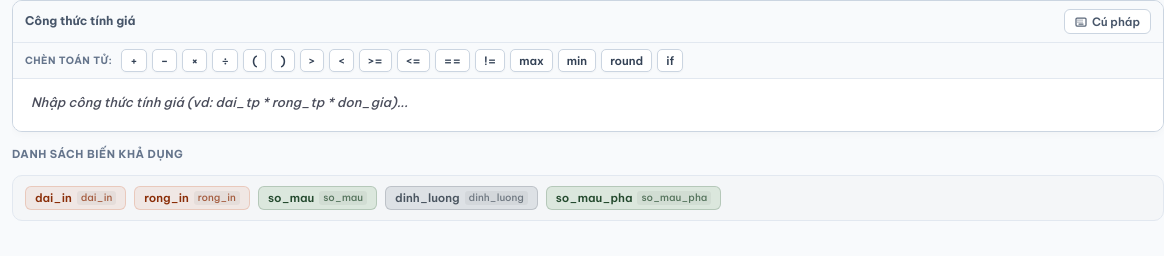
Test: thao tác trên ô công thức › KHÔNG chốt sớm khi còn mã dài hơn: gõ hết “so_mau_pha” phải ra so_mau_pha
In the field: (588, 103) [27, 91, 1149, 115], type "so_mau"
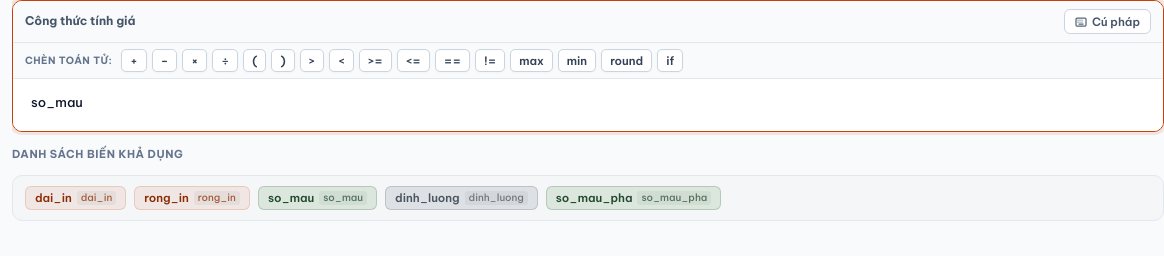
In the field: (588, 103) [27, 91, 1149, 115], type "_pha"
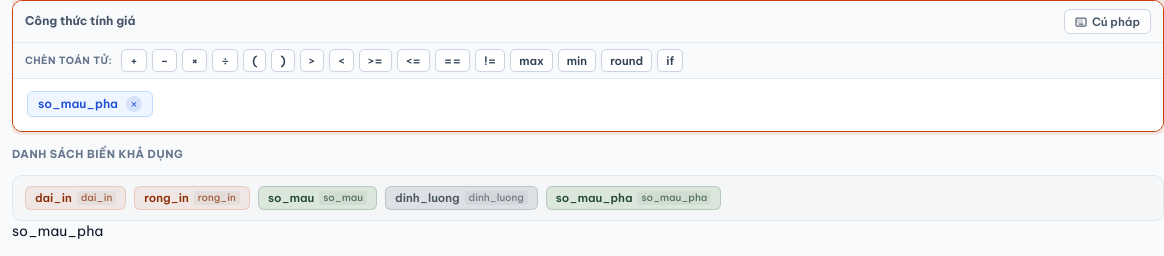
Expected: the text "so_mau_pha" below "Chèn toán tử:" is shown, [38, 96, 118, 111]
